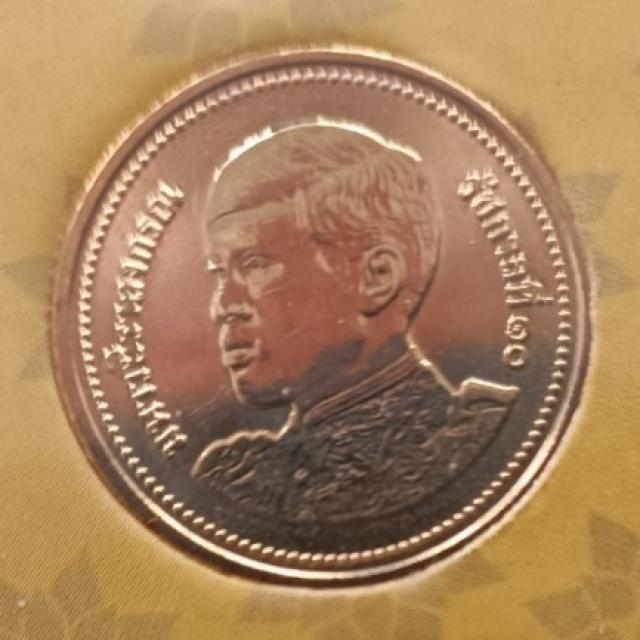2 Bath: (45, 40, 601, 593)
